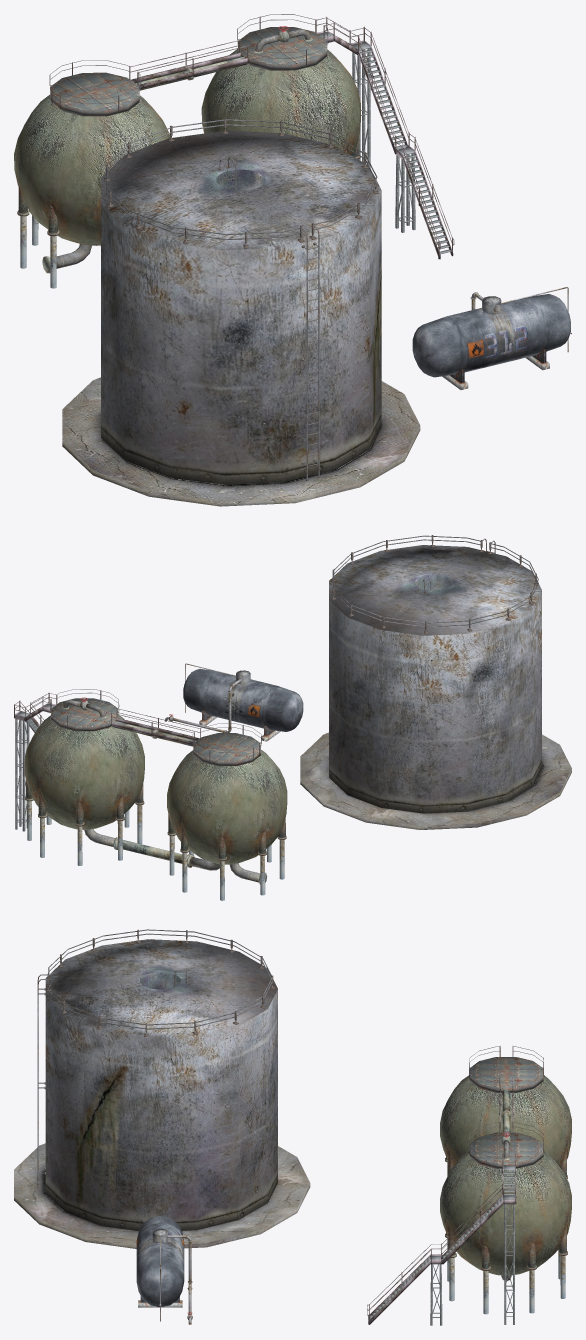
The model's file is fuel_depot_storage_tanks.obj.
3 renders of one model, top to bottom at view 1: azimuth 30°, elevation 25°; view 2: azimuth 150°, elevation 25°; view 3: azimuth 270°, elevation 25°, orthographic. The views are drawn at different scales.
Visible parts, largest first — view 1: pCylinder2_Large_tank_0, Round_TankB_Round_Tank_Material_0, Round_TankA_Round_Tank_Material_0, Long_Tank1_Long_TankA_Long_Tank_Long_TankA_Material_0, StairA_lambert3_0, StairB_lambert3_0, polySurface496_lambert3_0, Round_TankB_Legs_Round_Tank_Material_0, SupportA_lambert3_0, SupportB_lambert3_0, PipebendE_lambert3_0; view 2: pCylinder2_Large_tank_0, Round_TankB_Round_Tank_Material_0, Round_TankA_Round_Tank_Material_0, Long_Tank1_Long_TankA_Long_Tank_Long_TankA_Material_0, Round_TankB_Legs_Round_Tank_Material_0, Round_TankA_Legs_Round_Tank_Material_0, polySurface496_lambert3_0, SupportB_lambert3_0, SupportC_lambert3_0, PipeA_lambert3_0; view 3: pCylinder2_Large_tank_0, Round_TankA_Round_Tank_Material_0, Round_TankB_Round_Tank_Material_0, Long_Tank1_Long_TankA_Long_Tank_Long_TankA_Material_0, Round_TankA_Legs_Round_Tank_Material_0, StairB_lambert3_0, StairA_lambert3_0.
Boxes of the visible parts, box(x1,y1,x2,y2) form: pCylinder2_Large_tank_0: box(62, 118, 420, 506); Round_TankB_Round_Tank_Material_0: box(14, 72, 170, 245); Round_TankA_Round_Tank_Material_0: box(201, 27, 360, 155); Long_Tank1_Long_TankA_Long_Tank_Long_TankA_Material_0: box(412, 294, 570, 389); StairA_lambert3_0: box(395, 132, 454, 259); StairB_lambert3_0: box(349, 26, 408, 153); polySurface496_lambert3_0: box(129, 40, 247, 89); Round_TankB_Legs_Round_Tank_Material_0: box(17, 184, 59, 288); SupportA_lambert3_0: box(395, 153, 415, 232); SupportB_lambert3_0: box(352, 48, 370, 124); PipebendE_lambert3_0: box(42, 244, 91, 273); pCylinder2_Large_tank_0: box(300, 535, 571, 829); Round_TankB_Round_Tank_Material_0: box(167, 733, 287, 864); Round_TankA_Round_Tank_Material_0: box(24, 698, 144, 829); Long_Tank1_Long_TankA_Long_Tank_Long_TankA_Material_0: box(183, 668, 303, 741); Round_TankB_Legs_Round_Tank_Material_0: box(167, 814, 286, 900); Round_TankA_Legs_Round_Tank_Material_0: box(25, 779, 144, 865); polySurface496_lambert3_0: box(111, 708, 200, 745); SupportB_lambert3_0: box(15, 719, 29, 775); SupportC_lambert3_0: box(15, 771, 27, 831); PipeA_lambert3_0: box(115, 838, 190, 863); pCylinder2_Large_tank_0: box(14, 929, 310, 1248); Round_TankA_Round_Tank_Material_0: box(440, 1132, 571, 1275); Round_TankB_Round_Tank_Material_0: box(440, 1057, 571, 1167); Long_Tank1_Long_TankA_Long_Tank_Long_TankA_Material_0: box(136, 1216, 184, 1307); Round_TankA_Legs_Round_Tank_Material_0: box(445, 1227, 567, 1314); StairB_lambert3_0: box(441, 1182, 516, 1264); StairA_lambert3_0: box(367, 1243, 441, 1324).
Bounding box in the file's own units: 28.42 × 14.38 × 33.45.
Materials: 5 (5 with a texture image).
